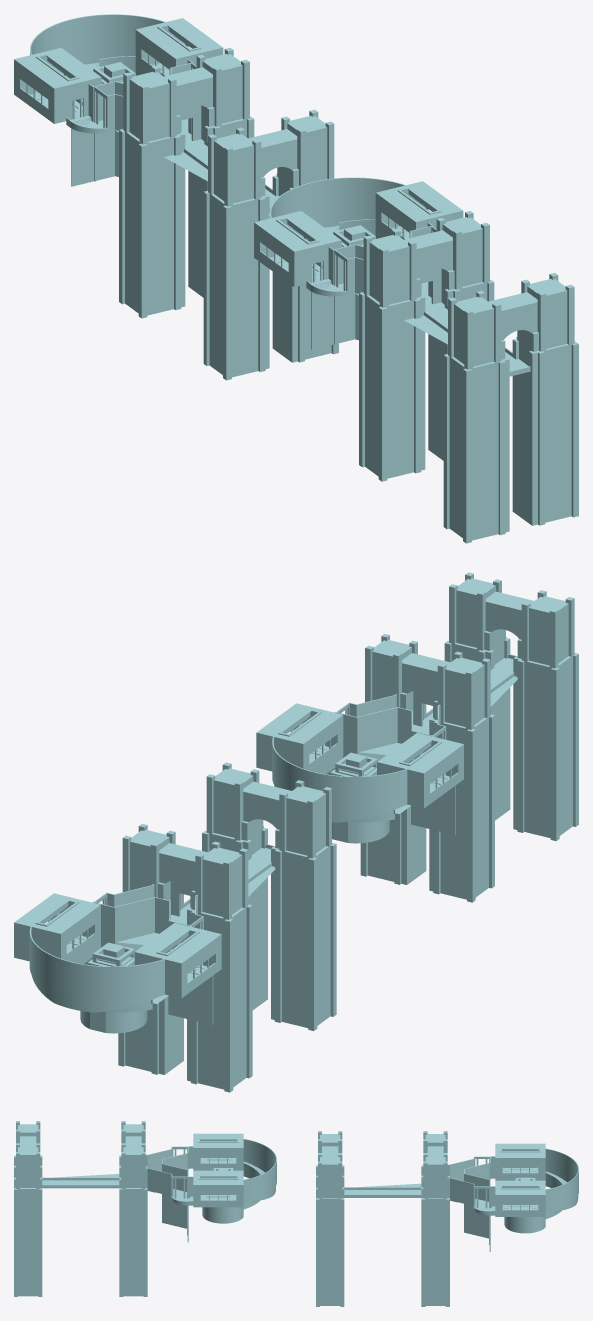
The model's file is Level 1.fbx.
The picture shows the model from 3 angles, top to bottom: view 1: azimuth 30°, elevation 25°; view 2: azimuth 150°, elevation 25°; view 3: azimuth 270°, elevation 25°; orthographic projection. The views are drawn at different scales.
Parts seen in each view (by area): view 1: Group1, Group2; view 2: Group2, Group1; view 3: Group1, Group2.
Part boxes in pixels (x1=…): Group1: x1=254, y1=177, x2=578, y2=543; Group2: x1=14, y1=14, x2=338, y2=380; Group2: x1=14, y1=762, x2=336, y2=1092; Group1: x1=256, y1=572, x2=578, y2=902; Group1: x1=14, y1=1121, x2=276, y2=1296; Group2: x1=316, y1=1131, x2=578, y2=1306.
Bounding box in the file's own units: 1822 × 2477 × 8360.
